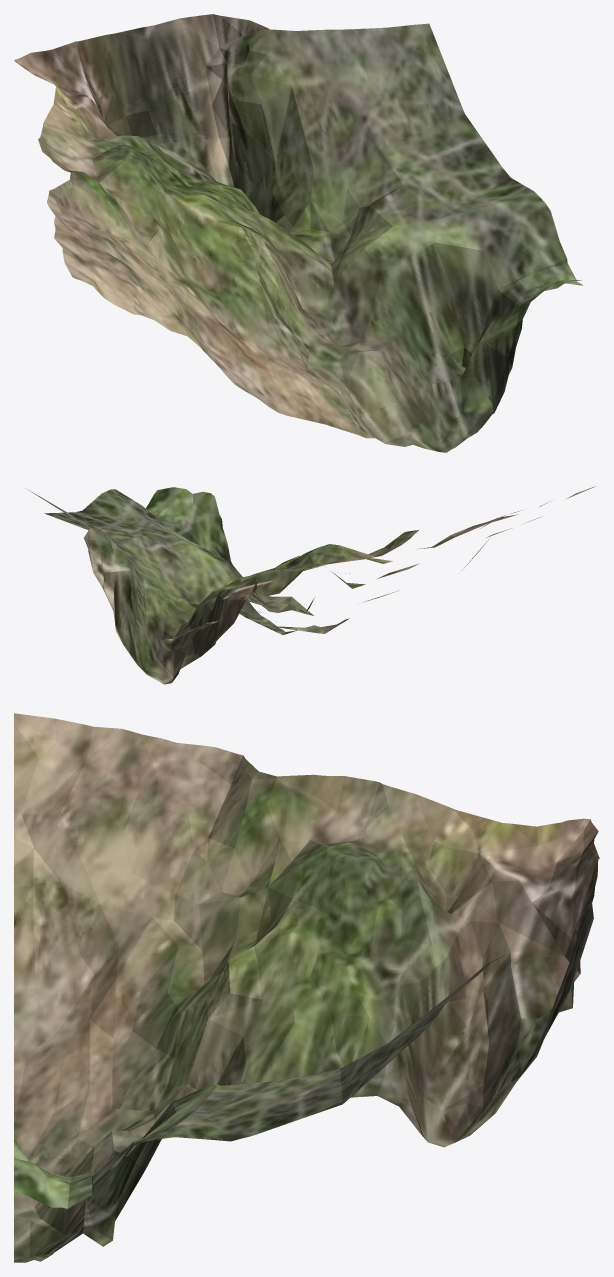
The picture shows the model from 3 angles, top to bottom: view 1: azimuth 30°, elevation 25°; view 2: azimuth 150°, elevation 25°; view 3: azimuth 270°, elevation 25°; orthographic projection. The views are drawn at different scales.
Bounding box in the file's own units: 2.76 × 1.33 × 2.18.
Materials: 2 (2 with a texture image).
